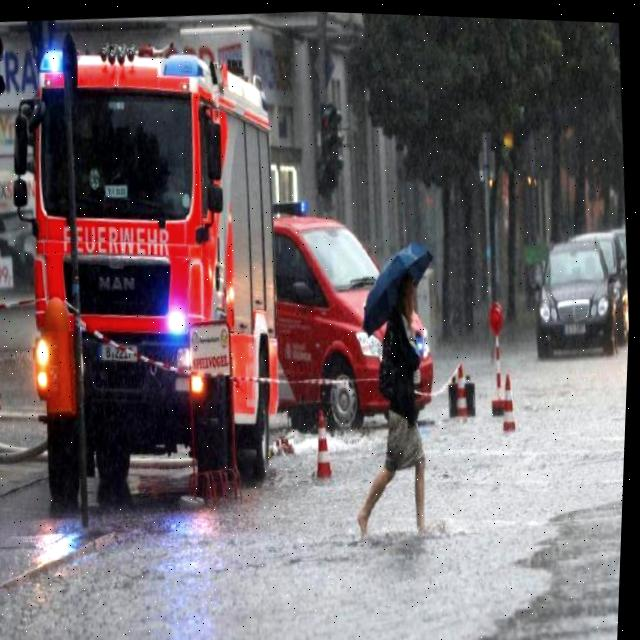civilian: (333, 262, 452, 563)
